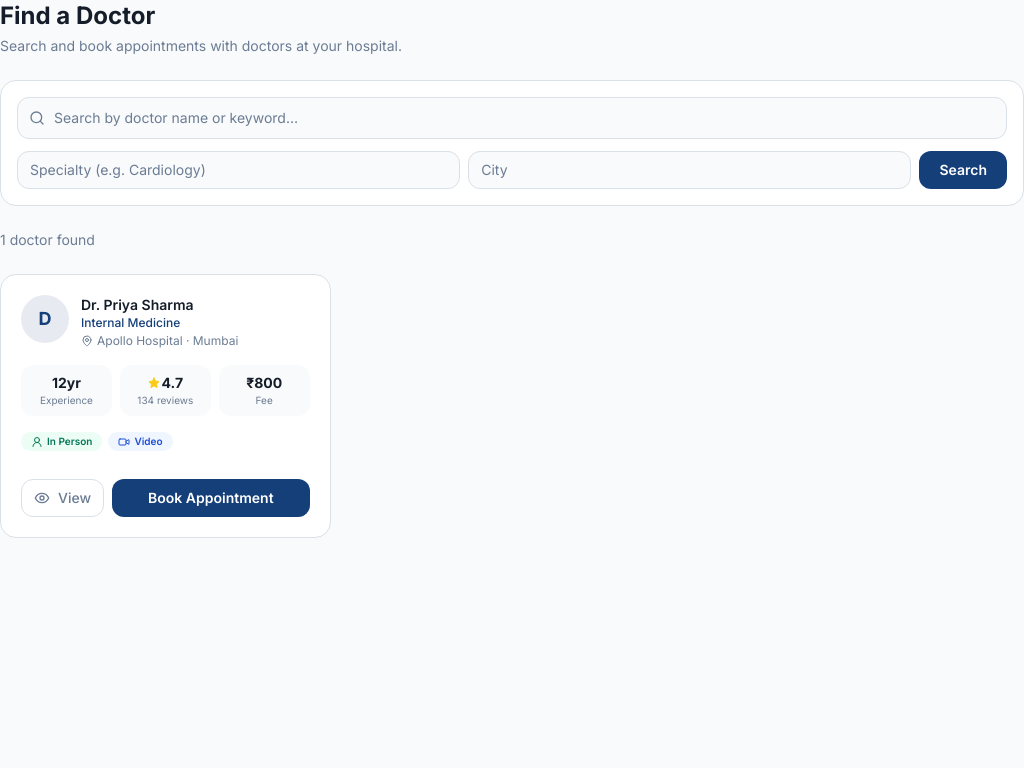
Test case: FindDoctorPage › opens slot picker modal when Book Appointment is clicked
Expected: the text "Dr. Priya Sharma" is shown, [81,296,194,313]
Click the button "Book Appointment".
click(211, 498)  # box [112,479,310,517]
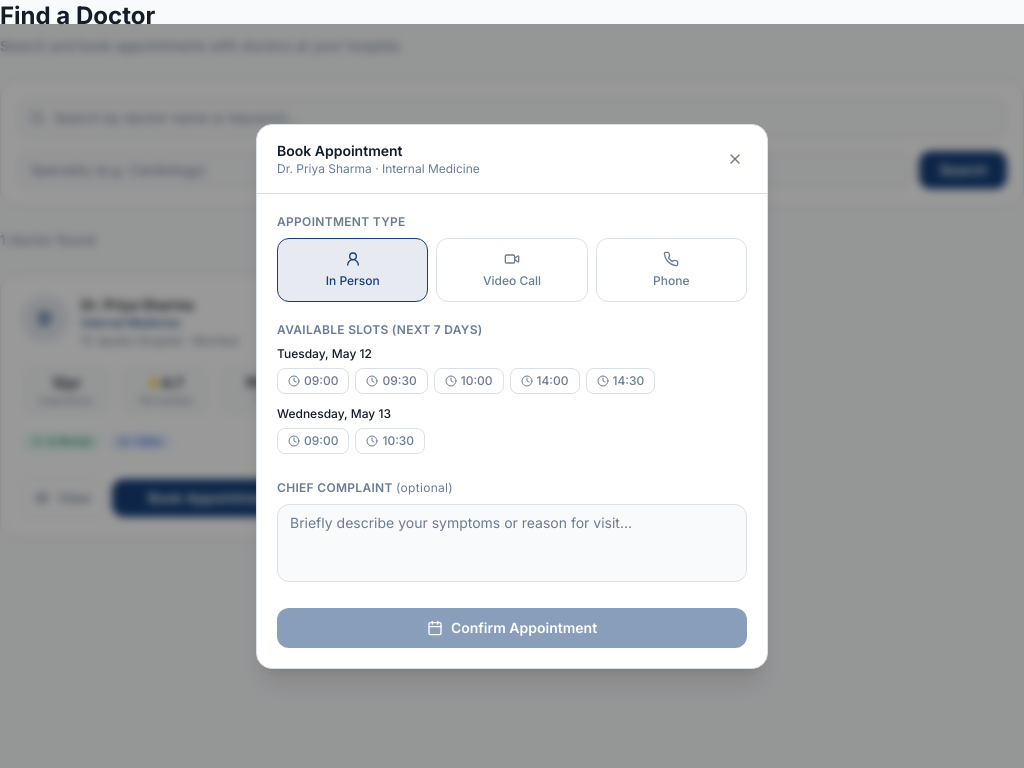
Expected: the text "Appointment Type" is shown, [277,214,406,228]
